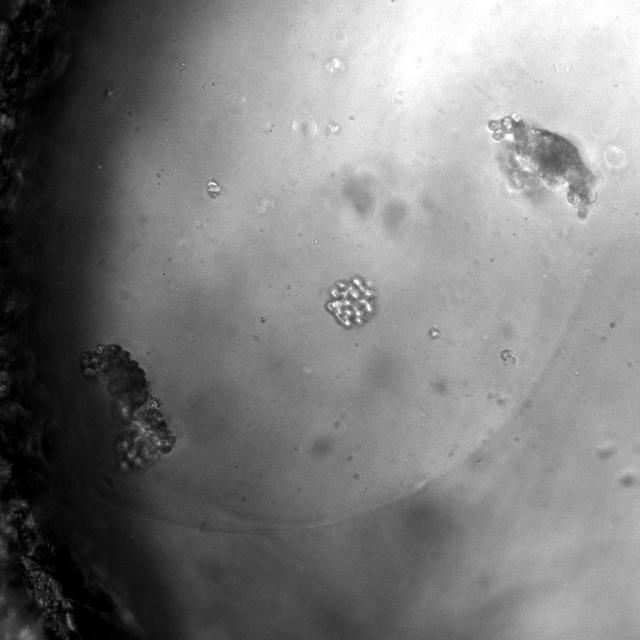organoid: (488, 109, 599, 223), (79, 344, 176, 471), (325, 276, 376, 328), (206, 179, 221, 197), (500, 349, 515, 365), (428, 325, 441, 339)
